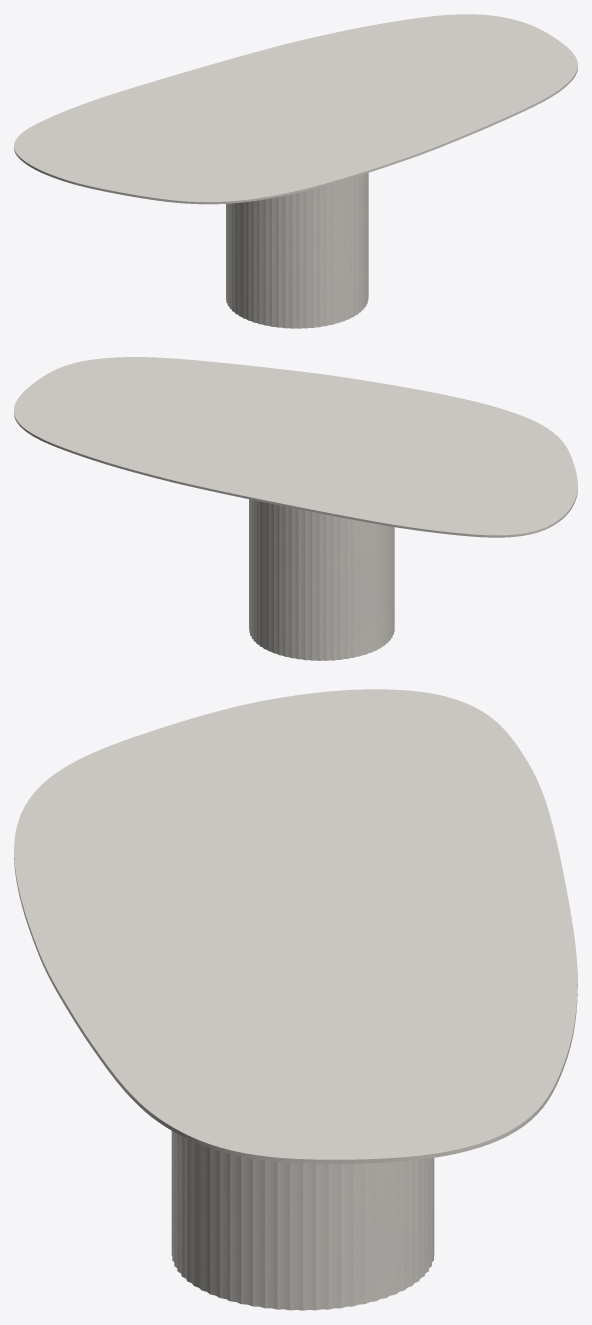
The model's file is pearlwhite_leaf2_facet_ripple.glb.
3 renders of one model, top to bottom at view 1: azimuth 30°, elevation 25°; view 2: azimuth 150°, elevation 25°; view 3: azimuth 270°, elevation 25°, orthographic. The views are drawn at different scales.
Parts seen in each view (by area): view 1: facet_leaf2, ripple; view 2: facet_leaf2, ripple; view 3: facet_leaf2, ripple.
Part boxes in pixels (x1,y1,x2,y2): facet_leaf2: (14,14,577,204); ripple: (226,173,368,328); facet_leaf2: (14,357,577,537); ripple: (249,499,394,660); facet_leaf2: (14,689,577,1163); ripple: (171,1131,434,1310).
Size of the model in its own units: 7.5 by 2.52 by 3.8.
Materials: 1 (1 with a texture image).
